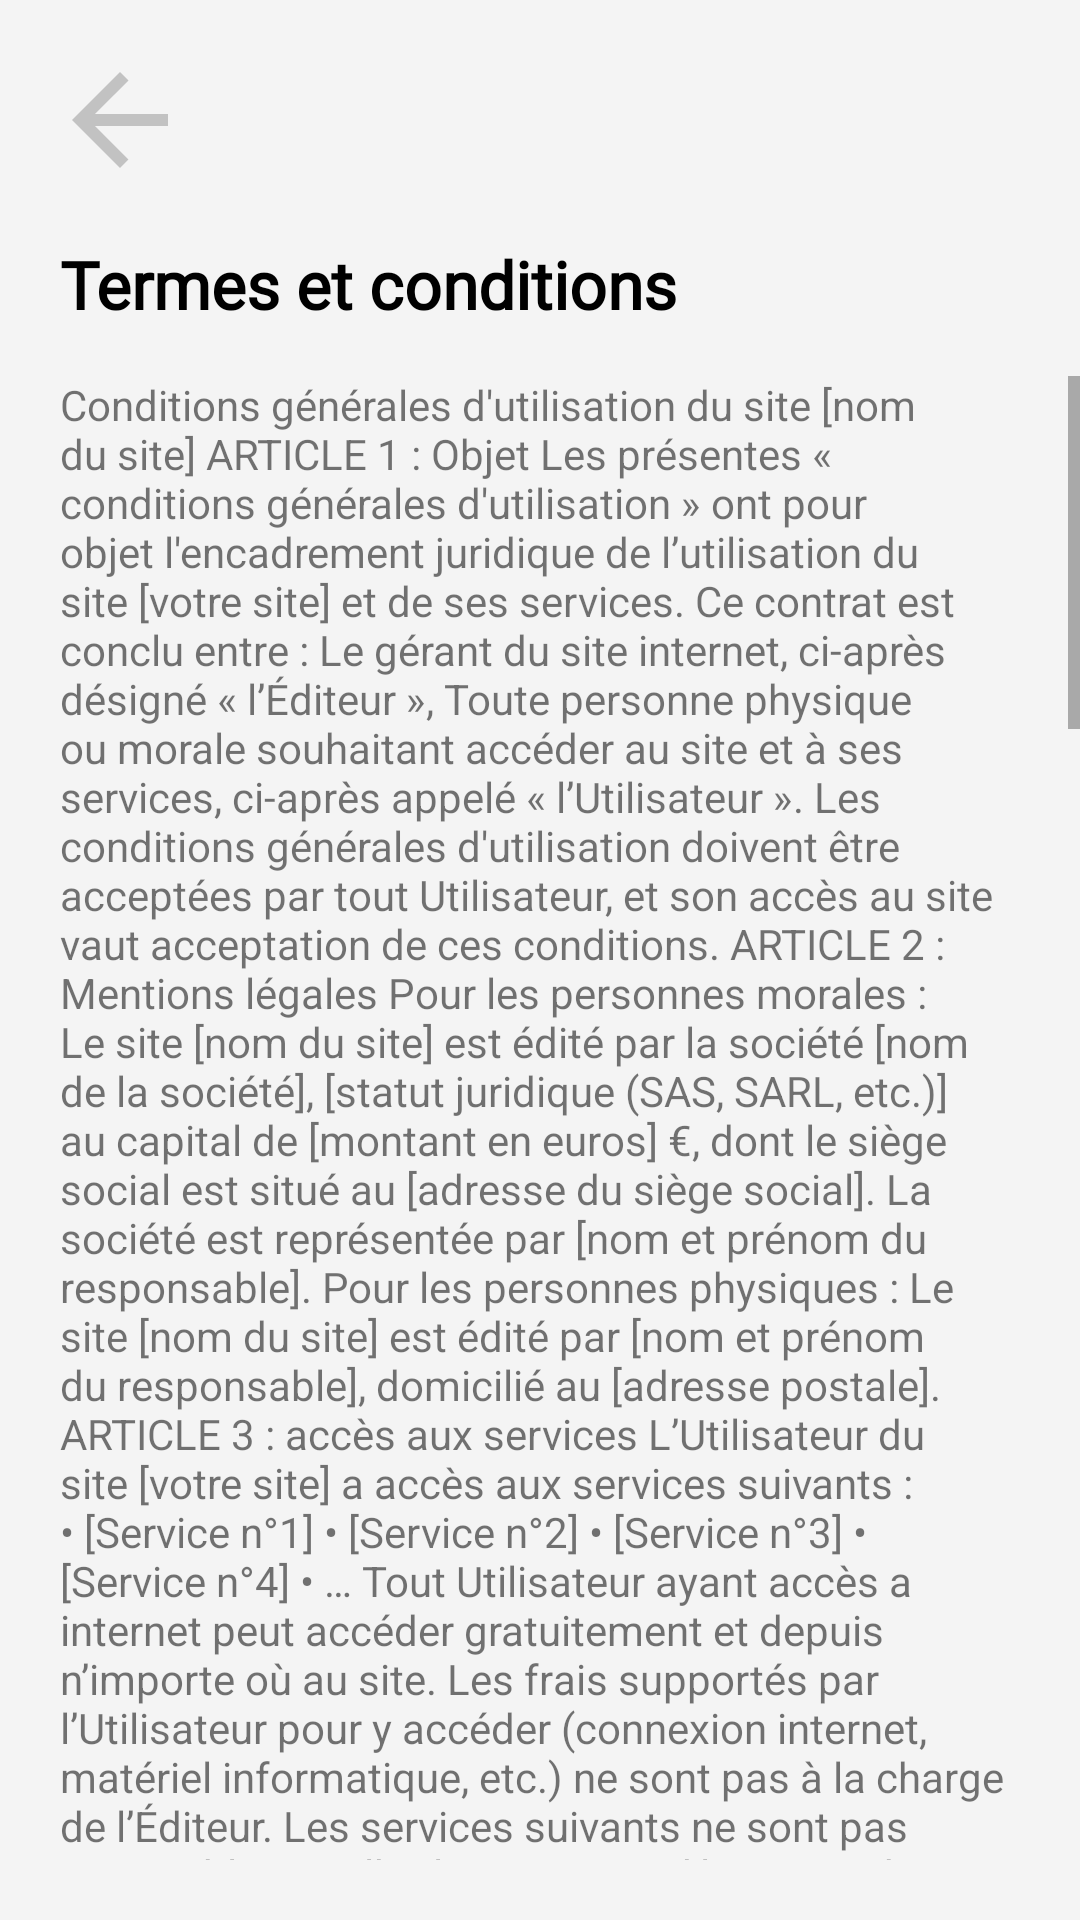

Icon click points for this 1080 x 1920 phone screenshot, format (x,y):
arrow back: (120,120)
